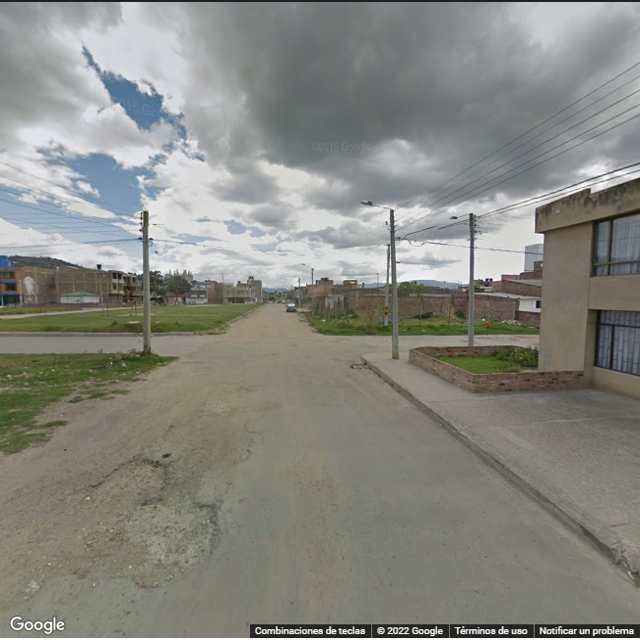D40: (121, 498, 215, 583), (86, 454, 179, 498)
